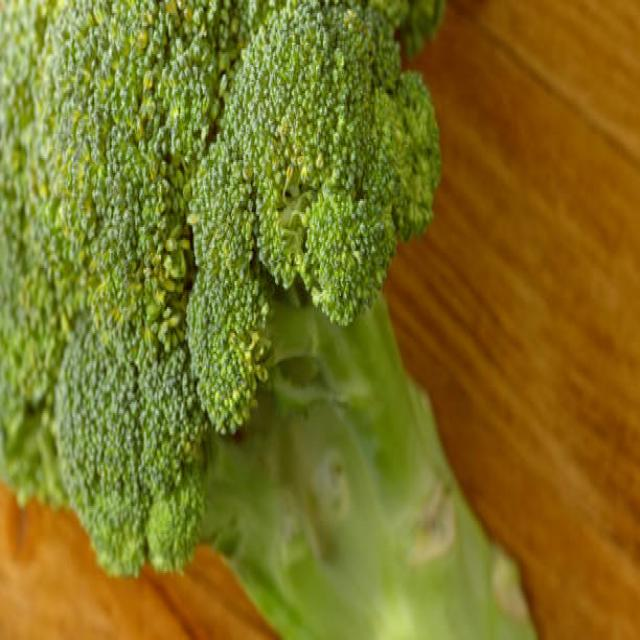broccoli: (1, 0, 438, 565)
